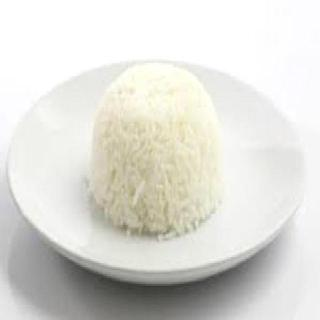Nasi: (84, 62, 228, 243)
